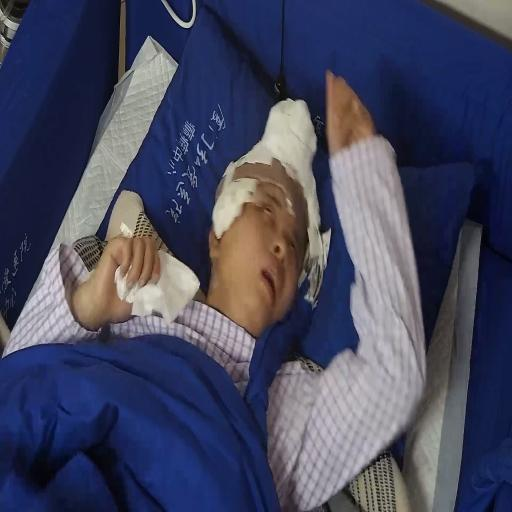Seizure: (214, 151, 307, 322)
